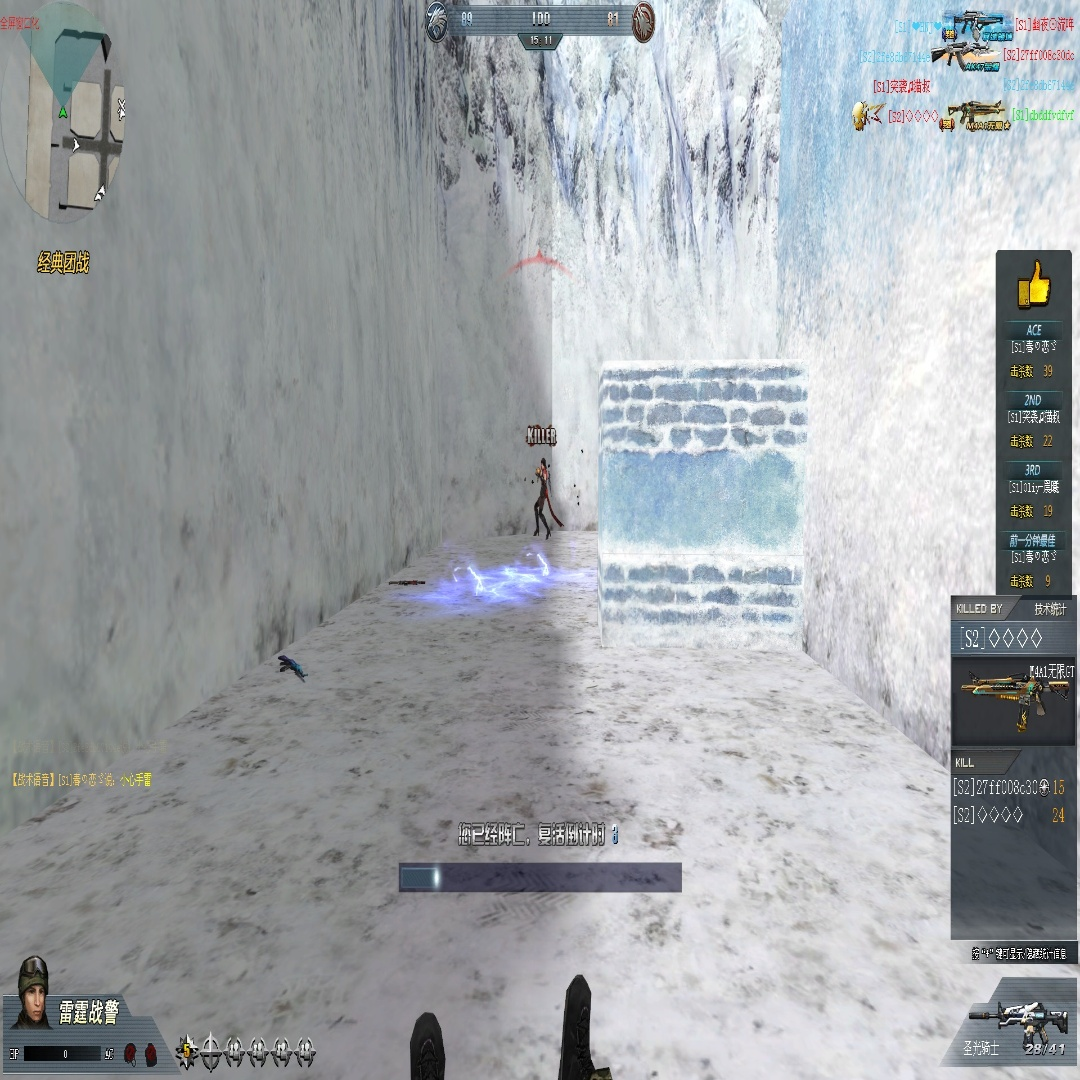t: (532, 458, 561, 538)
